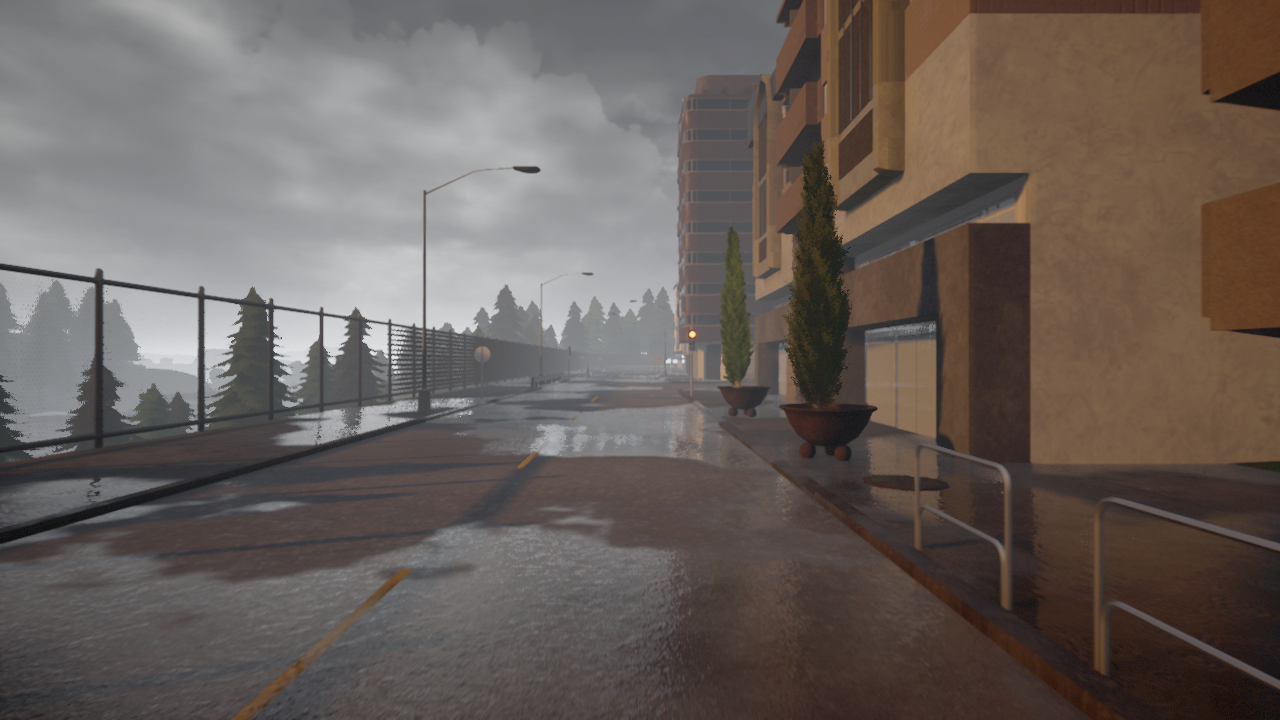red: (688, 329, 696, 351)
